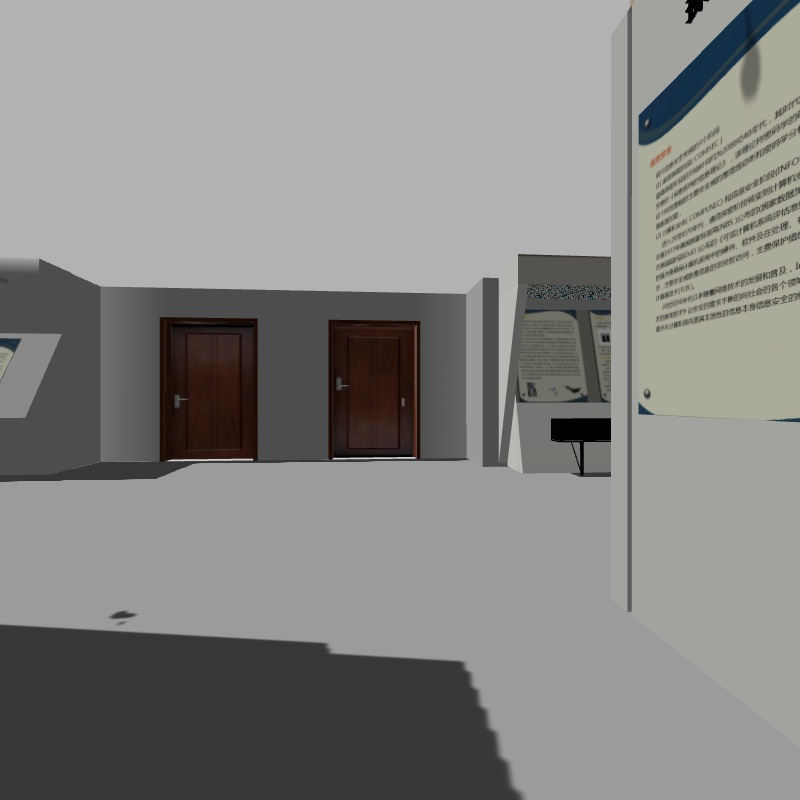handle: (165, 390, 191, 410), (332, 371, 352, 390)
